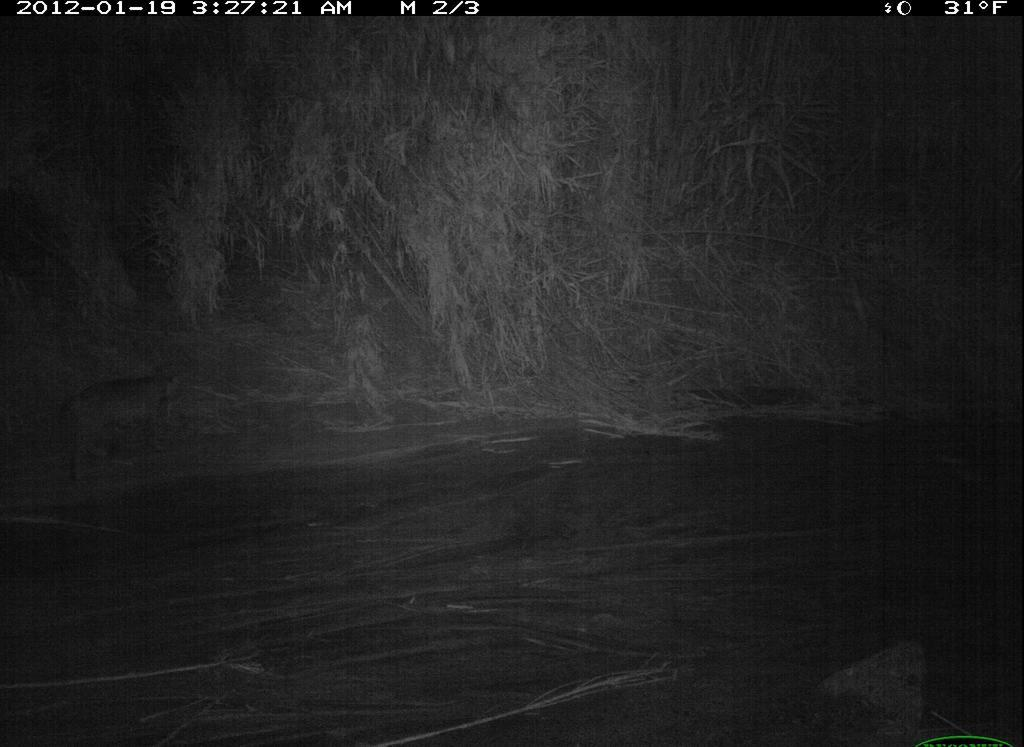bobcat: (49, 354, 222, 483)
